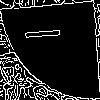I: (24, 24, 69, 42)
